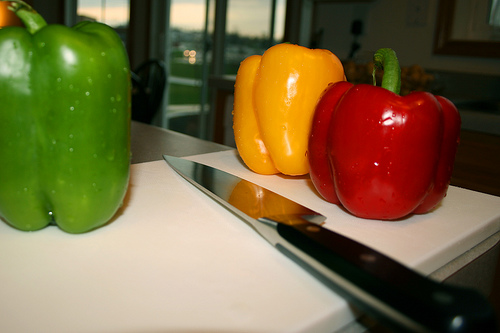capsicum: (307, 46, 461, 222)
